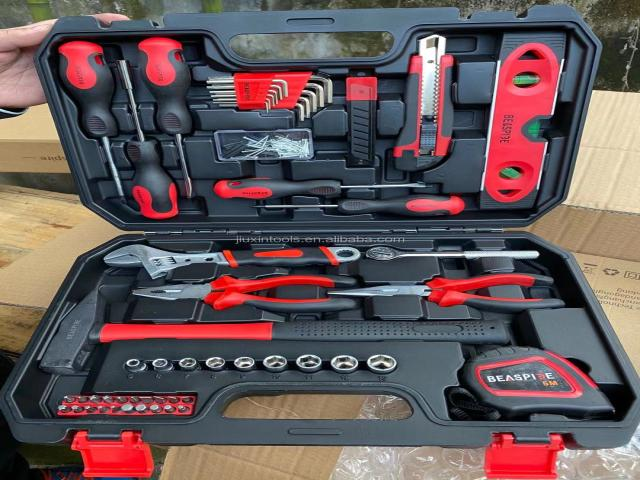Adjustable spanner: (103, 245, 362, 278)
Hammer: (38, 289, 508, 373)
Needle-nose pliers: (328, 273, 565, 313)
Pliers: (132, 275, 358, 313)
Ratchet: (365, 247, 540, 261)
Screwdriver: (58, 41, 125, 203), (120, 61, 178, 219), (138, 38, 192, 198), (253, 195, 465, 217), (213, 178, 427, 199)
Tape measure: (463, 346, 613, 417)
Utility knife: (393, 35, 453, 171)
